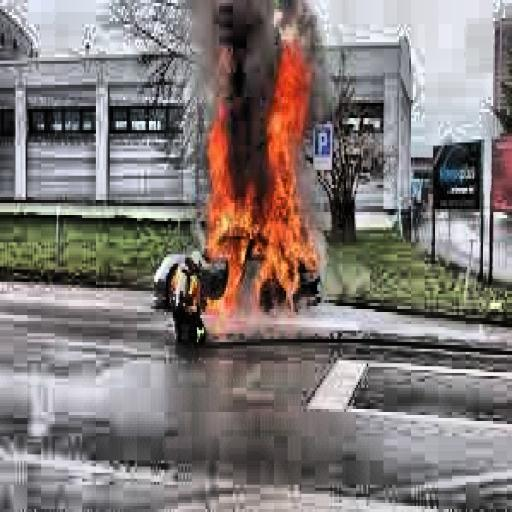fire: (176, 36, 324, 318)
